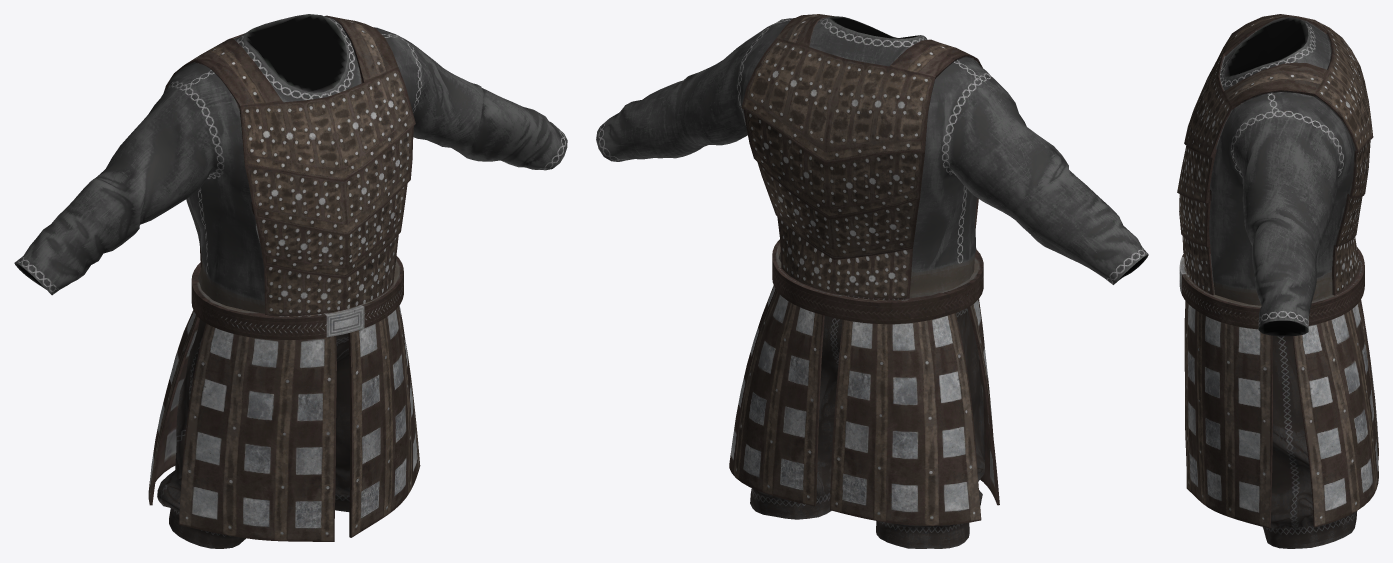
The model's file is sk_dwarf_erebor_chest_leather_light_b.fbx.
3 views of the same model, side by side, from view 1: azimuth 30°, elevation 25°; view 2: azimuth 150°, elevation 25°; view 3: azimuth 270°, elevation 25° (orthographic). The views are drawn at different scales.
Parts seen in each view (by area): view 1: sk_dwarf_erebor_chest_leather_light_b.0, sk_dwarf_erebor_chest_leather_light_b.1; view 2: sk_dwarf_erebor_chest_leather_light_b.0, sk_dwarf_erebor_chest_leather_light_b.1; view 3: sk_dwarf_erebor_chest_leather_light_b.0, sk_dwarf_erebor_chest_leather_light_b.1.
Part boxes in pixels (bbox=[...]): sk_dwarf_erebor_chest_leather_light_b.0: bbox=[14, 14, 567, 541]; sk_dwarf_erebor_chest_leather_light_b.1: bbox=[157, 319, 350, 548]; sk_dwarf_erebor_chest_leather_light_b.0: bbox=[596, 14, 1148, 525]; sk_dwarf_erebor_chest_leather_light_b.1: bbox=[750, 308, 984, 548]; sk_dwarf_erebor_chest_leather_light_b.0: bbox=[1177, 14, 1378, 528]; sk_dwarf_erebor_chest_leather_light_b.1: bbox=[1262, 335, 1357, 548].
Bounding box in the file's own units: 1.17 × 0.3958 × 1.02.
2 materials, 2 textured.
